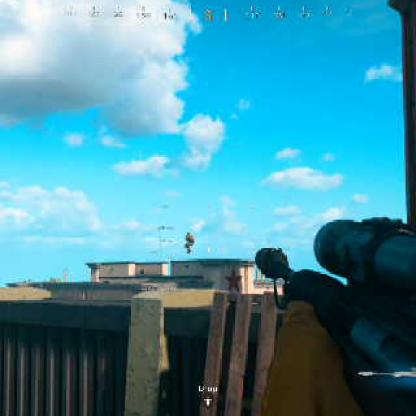enemy: (183, 230, 198, 254)
